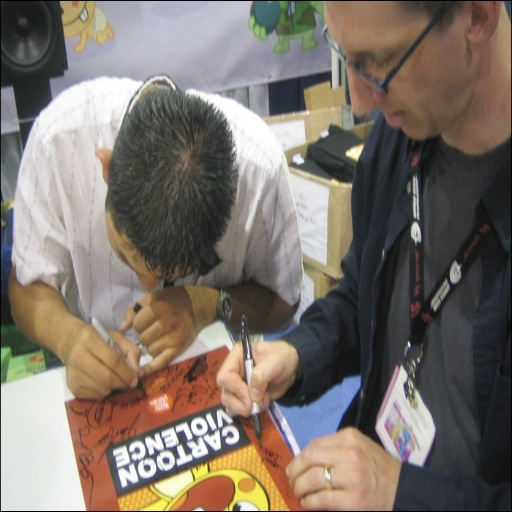hand: (287, 428, 396, 509), (114, 283, 196, 375), (62, 320, 141, 399), (215, 341, 297, 416), (247, 13, 269, 40), (319, 2, 327, 22)
